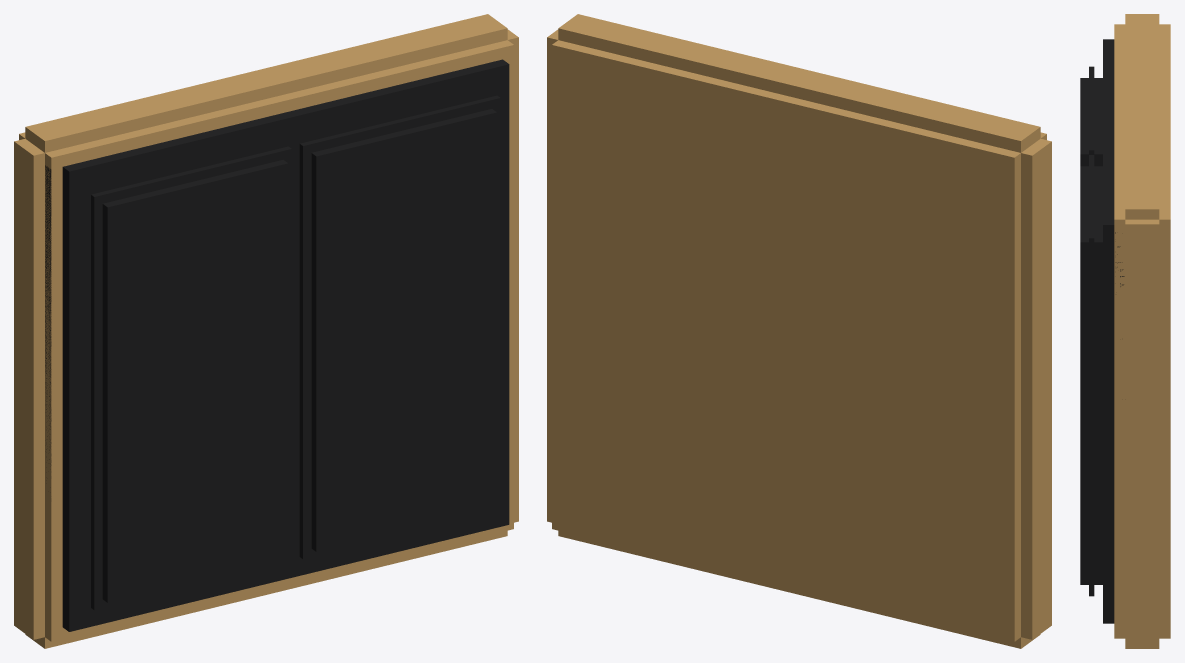
Rendered from model-2-gang-1-way.glb.
3 renders of one model, left to right at view 1: azimuth 30°, elevation 25°; view 2: azimuth 150°, elevation 25°; view 3: azimuth 270°, elevation 25°, orthographic. The views are drawn at different scales.
Parts seen in each view (by area): view 1: vazra; view 2: vazra; view 3: vazra.
Boxes of the visible parts, x1=… form: vazra: x1=14, y1=14, x2=518, y2=648; vazra: x1=547, y1=14, x2=1051, y2=648; vazra: x1=1080, y1=14, x2=1170, y2=648.
Size of the model in its own units: 0.086 by 0.086 by 0.016.
